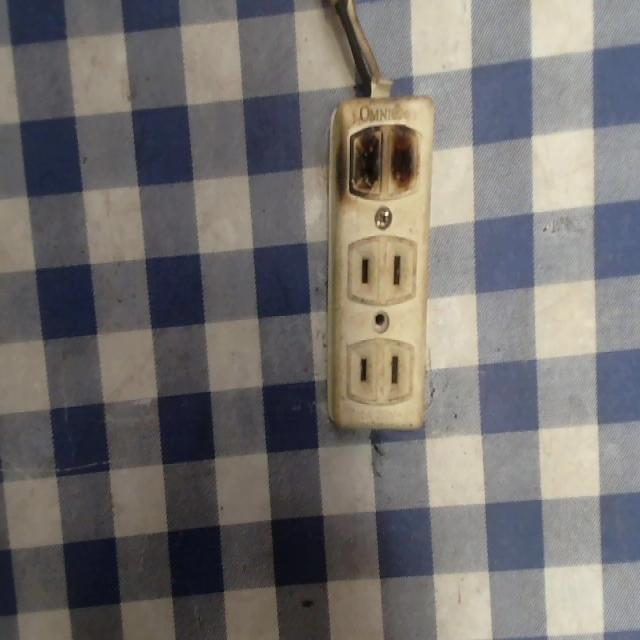-: (337, 111, 427, 201)
